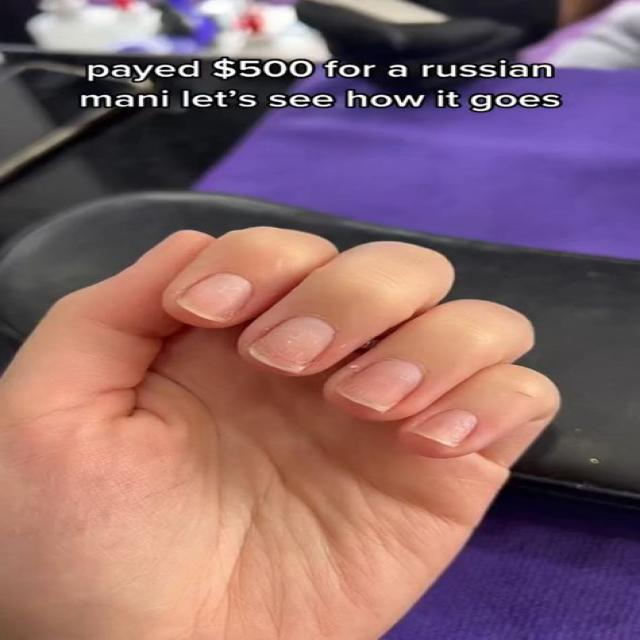Fingernail: (249, 317, 334, 374), (337, 358, 423, 414), (178, 273, 253, 322), (411, 408, 478, 448)
